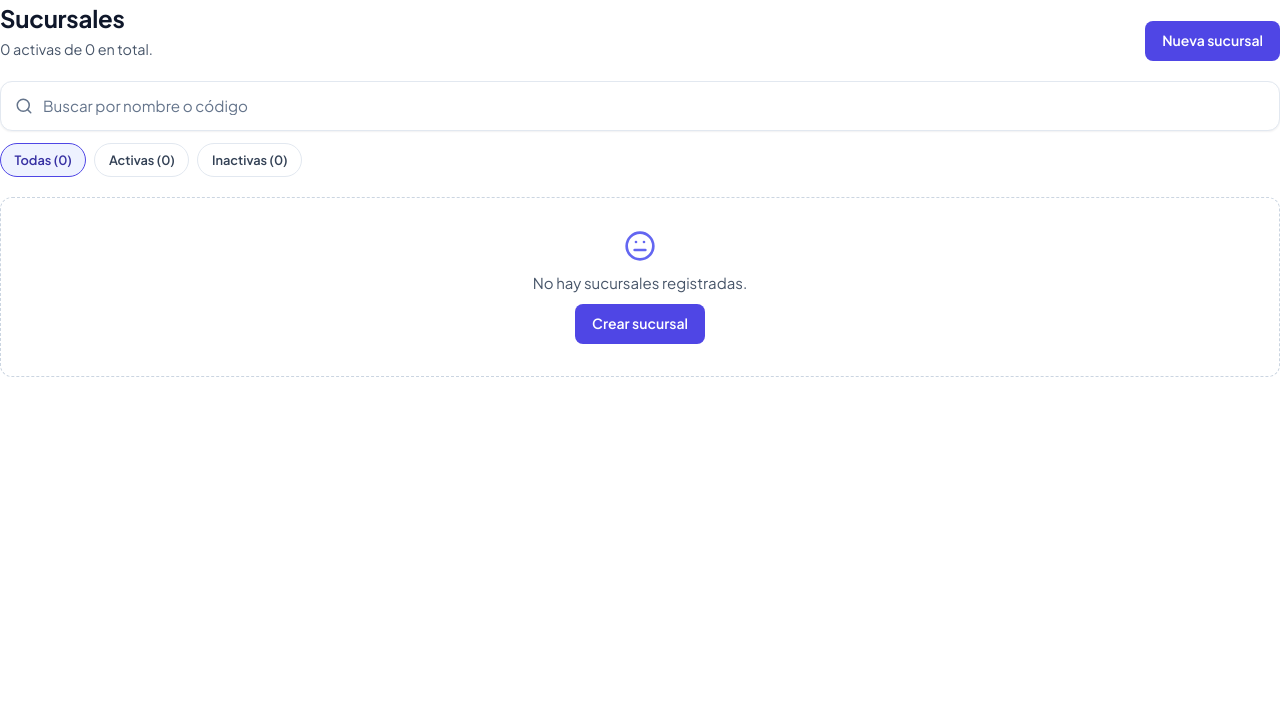
Test: SucursalesPage: número de guardias › muestra el error de calendar_area_id junto al campo Área
The width and height of the screenshot is (1280, 720).
Expected: the text "No hay sucursales registradas." is shown, [533,272,747,294]
Click the button "Nueva sucursal" at {"x": 1213, "y": 41}, box [1145,21,1279,61]
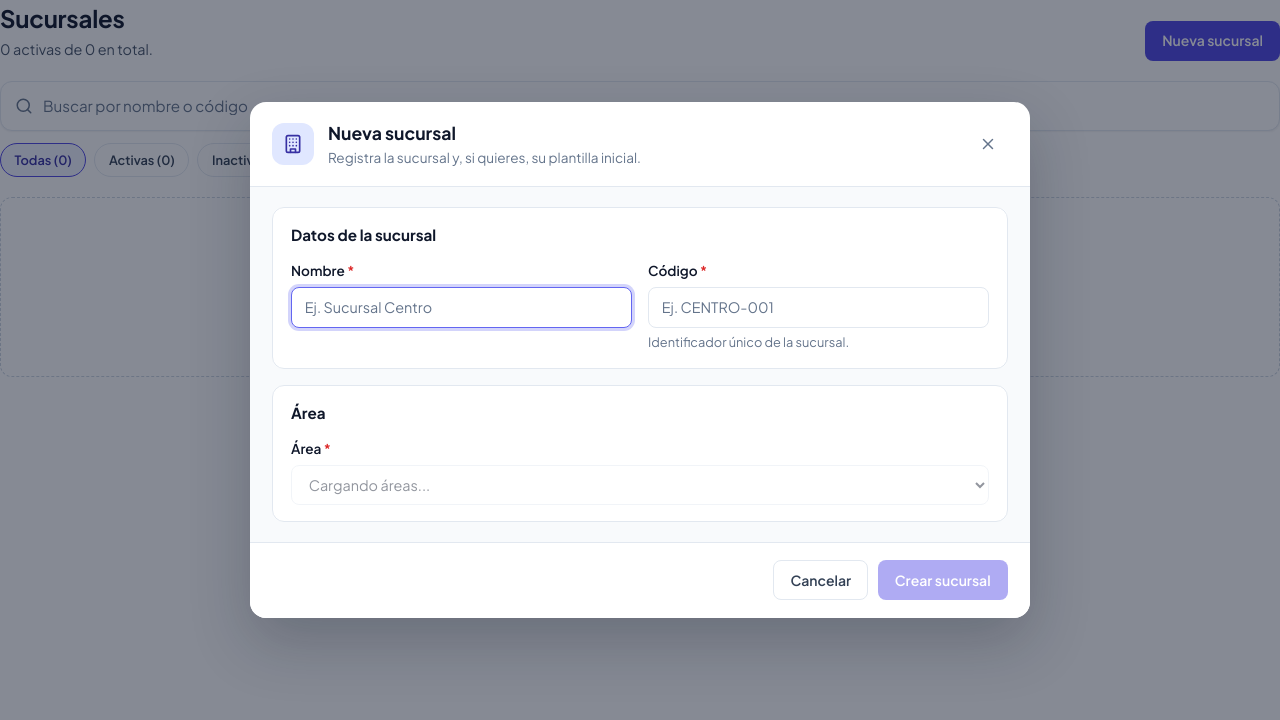
Type "Sucursal Centro" into the field labelled "Nombre *" at {"x": 462, "y": 307}, box [291,287,632,328]
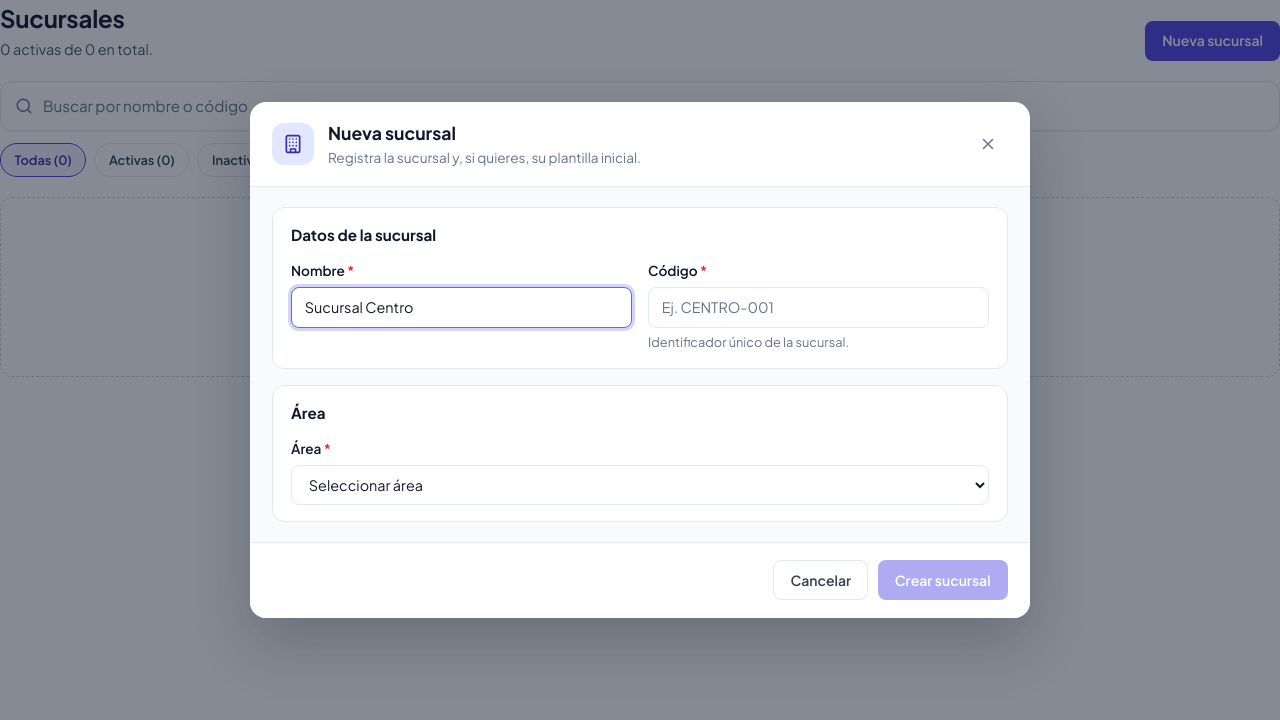
Type "CENTRO-01" into the field labelled "Código *" at {"x": 818, "y": 307}, box [648,287,989,328]
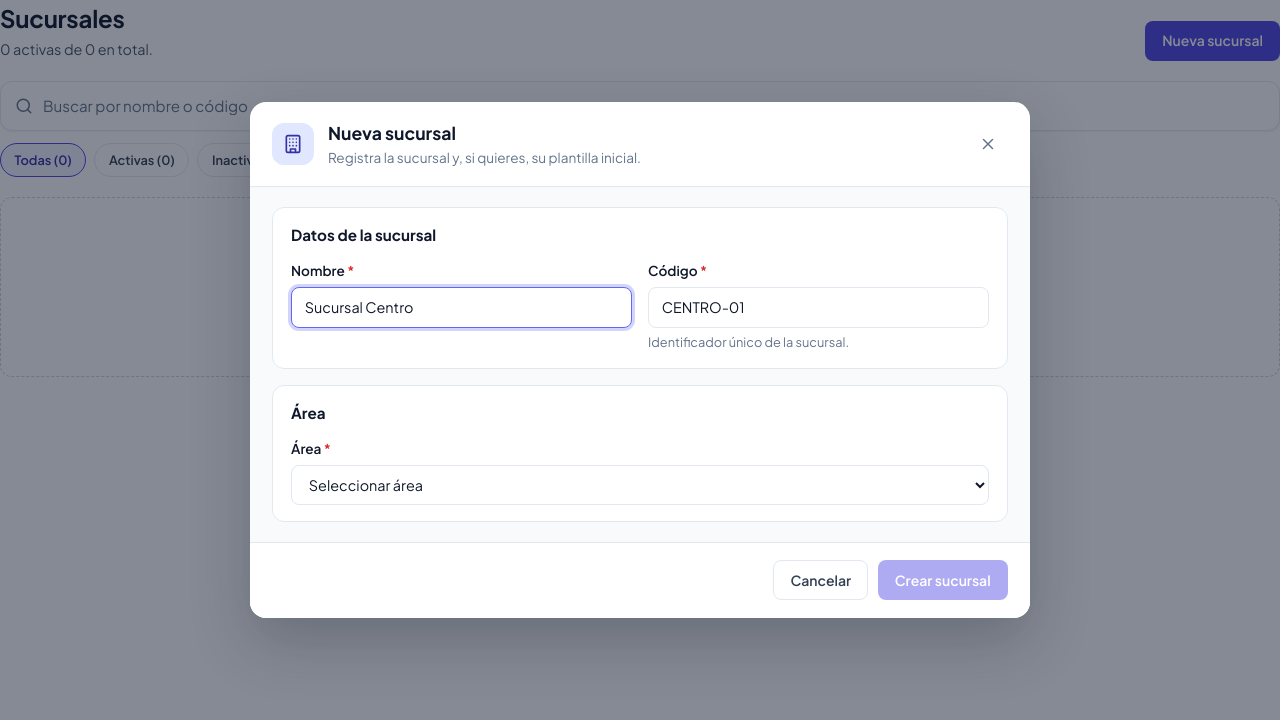
Select "CENTRO — Centro" in the dropdown labelled "Área *" at {"x": 640, "y": 485}, box [291,465,989,505]
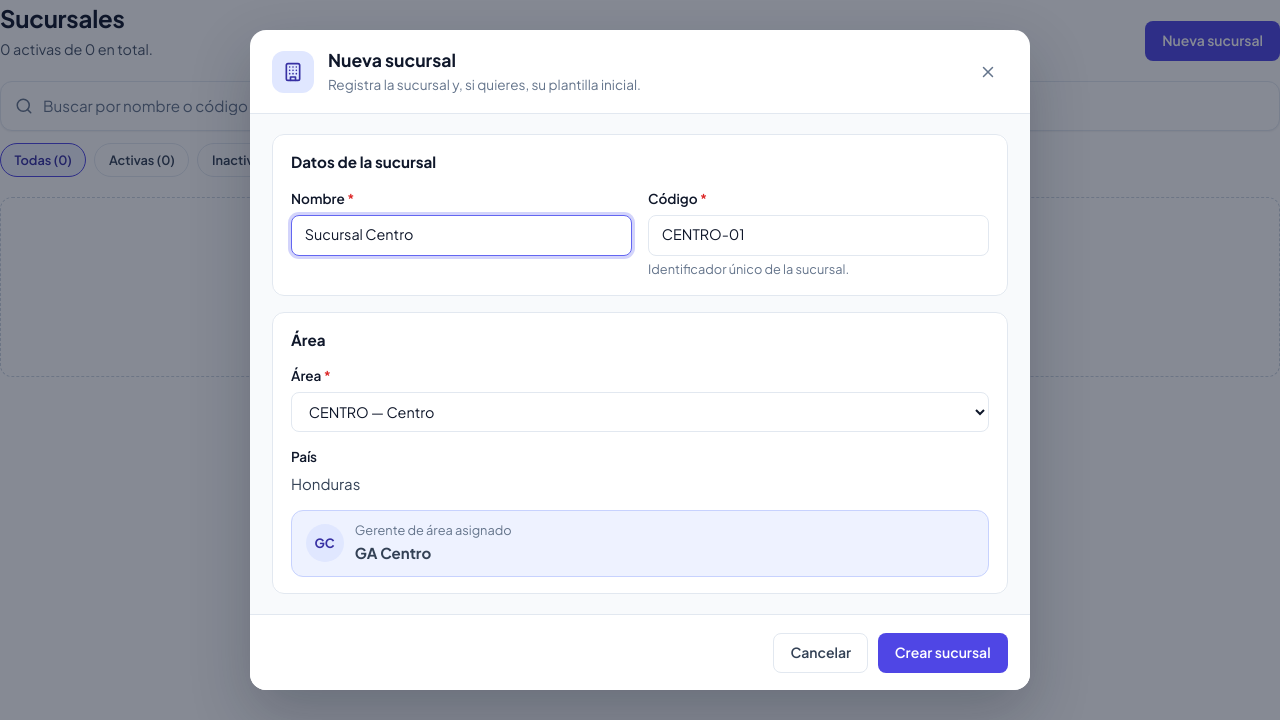
Click the button "Crear sucursal" at {"x": 943, "y": 652}, box [878,632,1008,672]
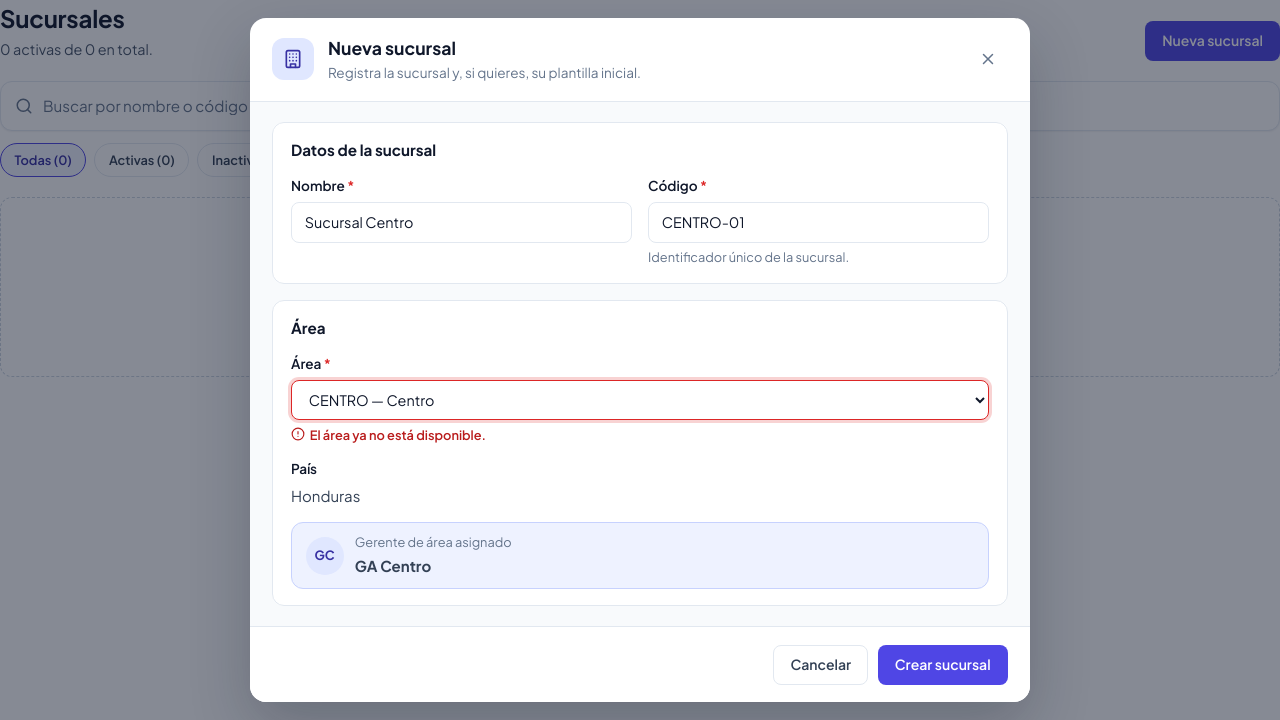
Result: the message reads "El área ya no está disponible." at [310,427,486,443]
